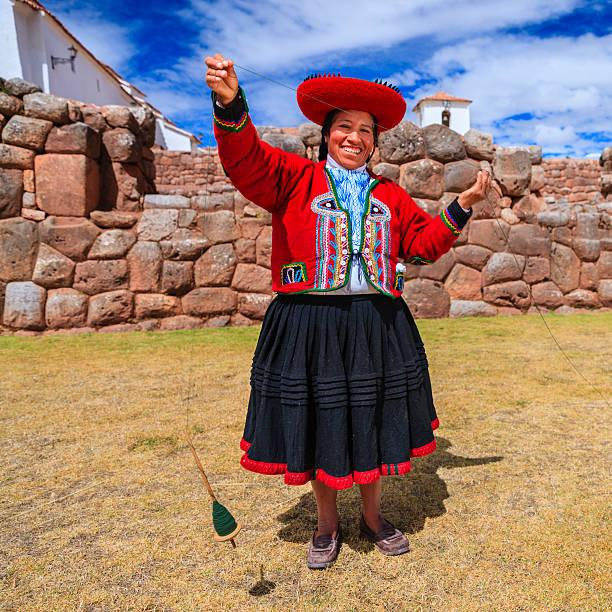Human: (202, 37, 497, 592)
